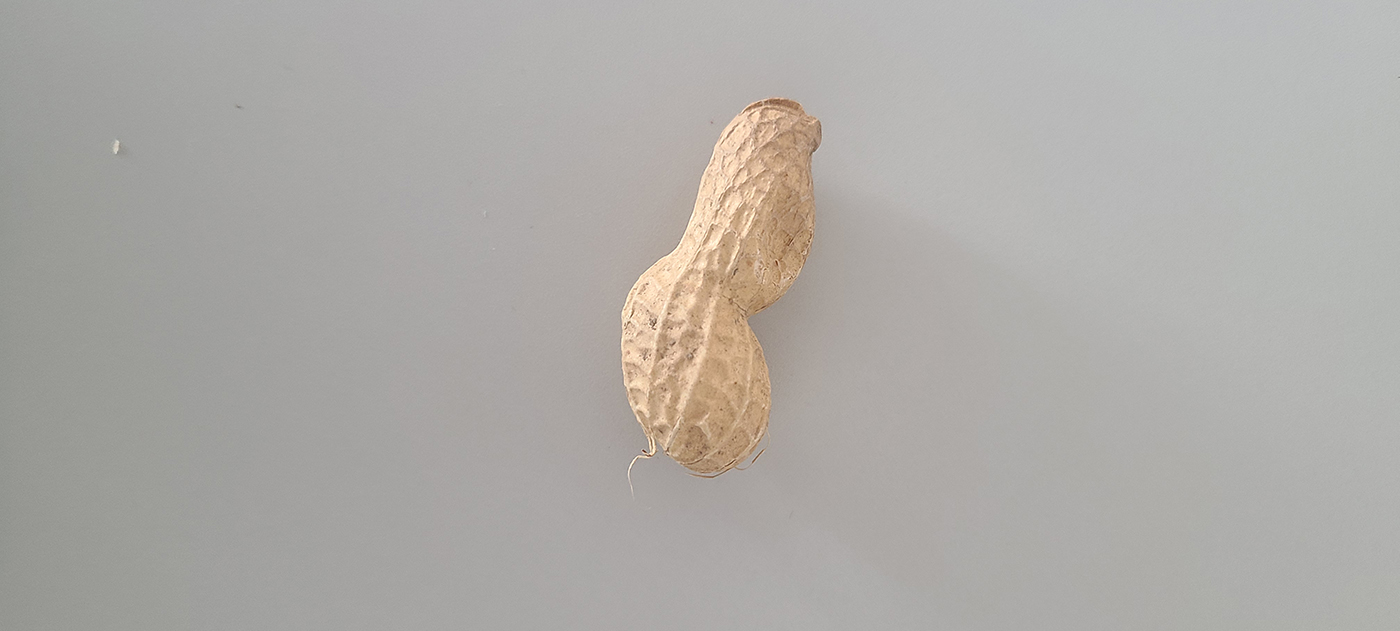h: (619, 96, 826, 476)
